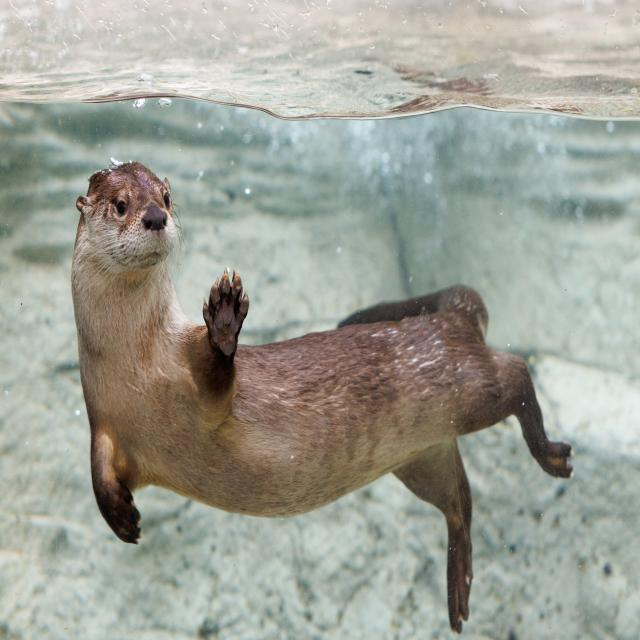Otter: (72, 158, 569, 598)
